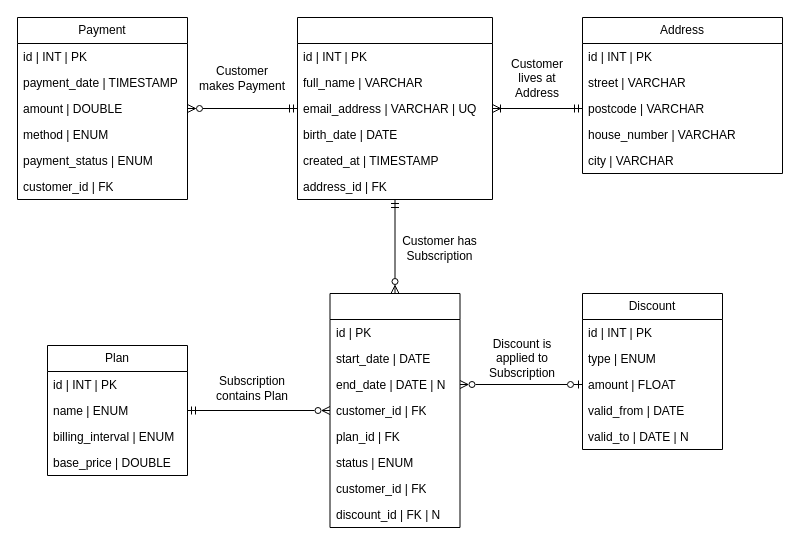
This 800x548 diagram has some shape labels left out. Each missing label, with the box of its shape:
Customer: (296, 16, 492, 200)
Subscription: (329, 292, 460, 528)
